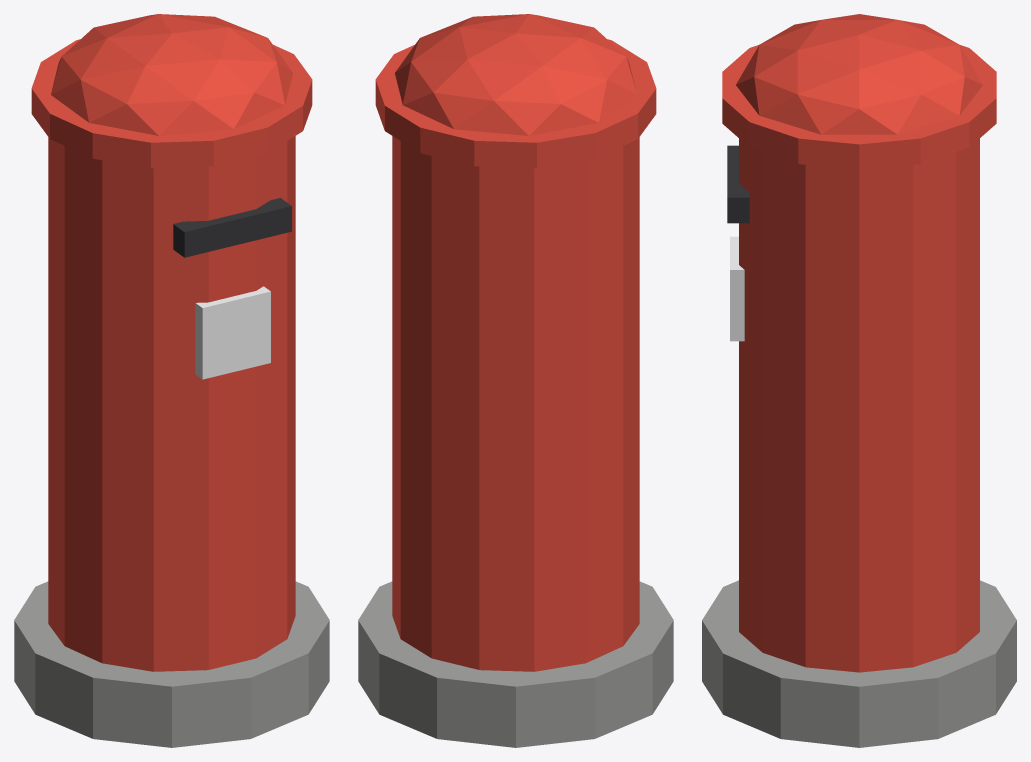
The model's file is post.glb.
3 views of the same model, side by side, from view 1: azimuth 30°, elevation 25°; view 2: azimuth 150°, elevation 25°; view 3: azimuth 270°, elevation 25° (orthographic).
Visible parts, largest first — view 1: post; view 2: post; view 3: post.
Part boxes in pixels (<box>): post: <box>14,14,329,747</box>; post: <box>358,14,673,747</box>; post: <box>702,14,1016,747</box>.
Size of the model in its own units: 0.56 by 1.27 by 0.56.
